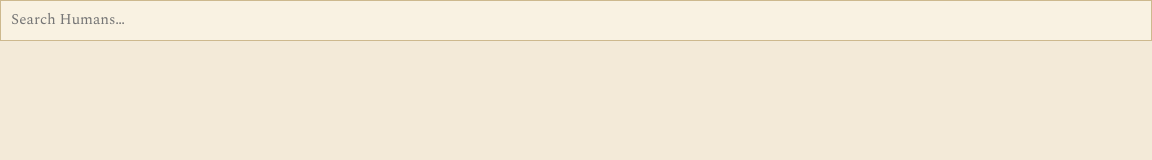
Test: WikiLinkPicker candidates › finds a folio by its alias
Type "Ulysses" into the dropdown at (576,20), box [11,8,1141,33]
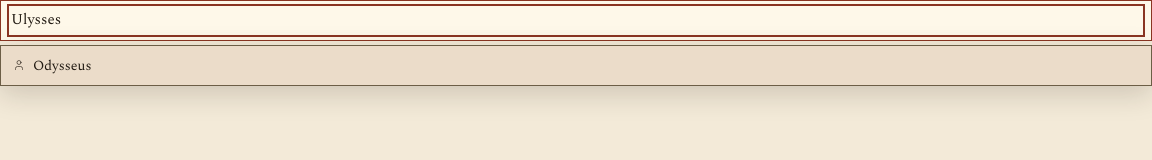
Expected: the options read "Odysseus", in this order, [1,46,1151,85]
